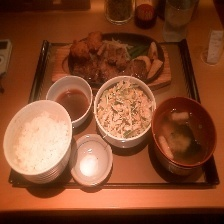rice: (10, 111, 70, 176)
